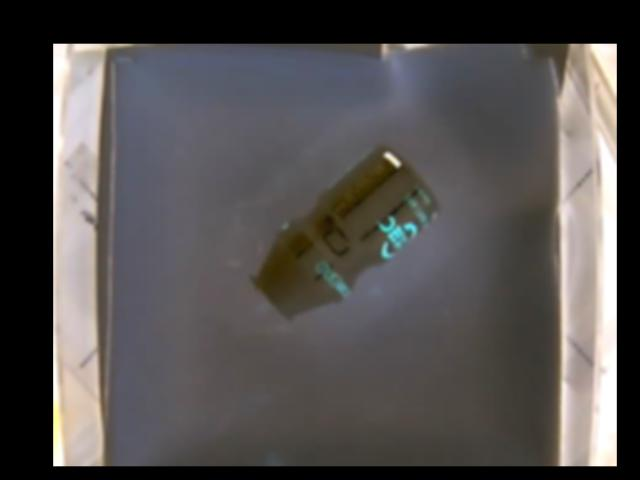Bottle: (254, 144, 438, 321)
